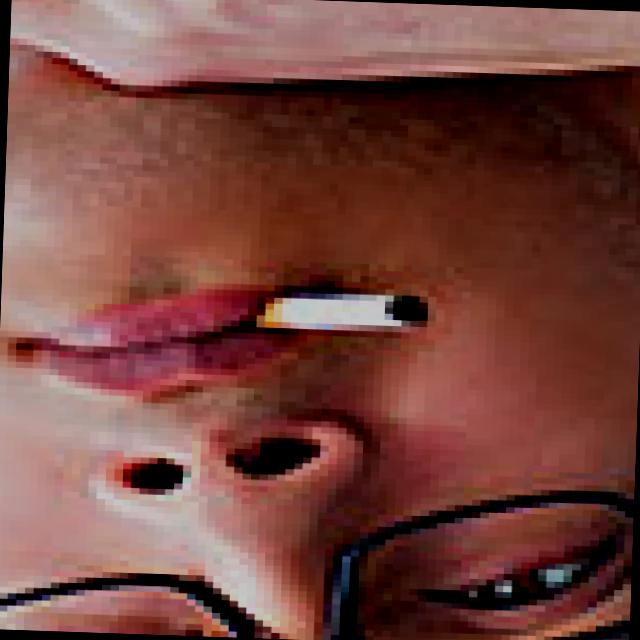smoke: (253, 283, 440, 339)
